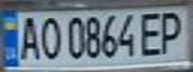0: (63, 13, 84, 60)
4: (115, 10, 139, 58)
6: (100, 11, 121, 58)
8: (81, 12, 103, 60)
A: (15, 14, 42, 61)
E: (136, 9, 166, 57)
O: (36, 14, 63, 61)
P: (157, 8, 190, 56)
